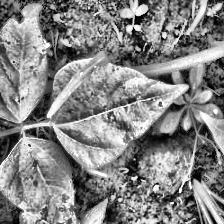ALS: (52, 58, 190, 168), (0, 132, 79, 224), (0, 16, 47, 124)
